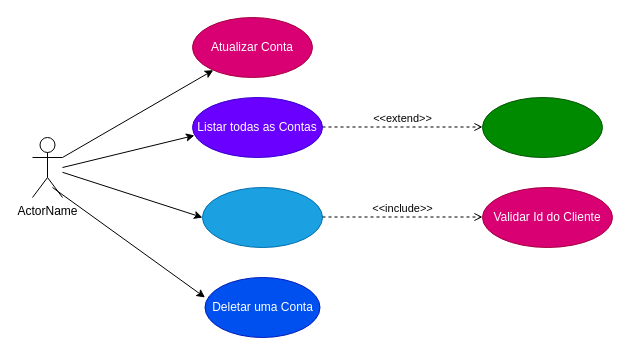
This 630x355 diagram has some shape labels left out. The box of each missing label's shape, as (x1, y1, x2, y2) in pixels:
Criar Conta: (202, 186, 322, 248)
Filtrar por Nome: (482, 96, 602, 158)
